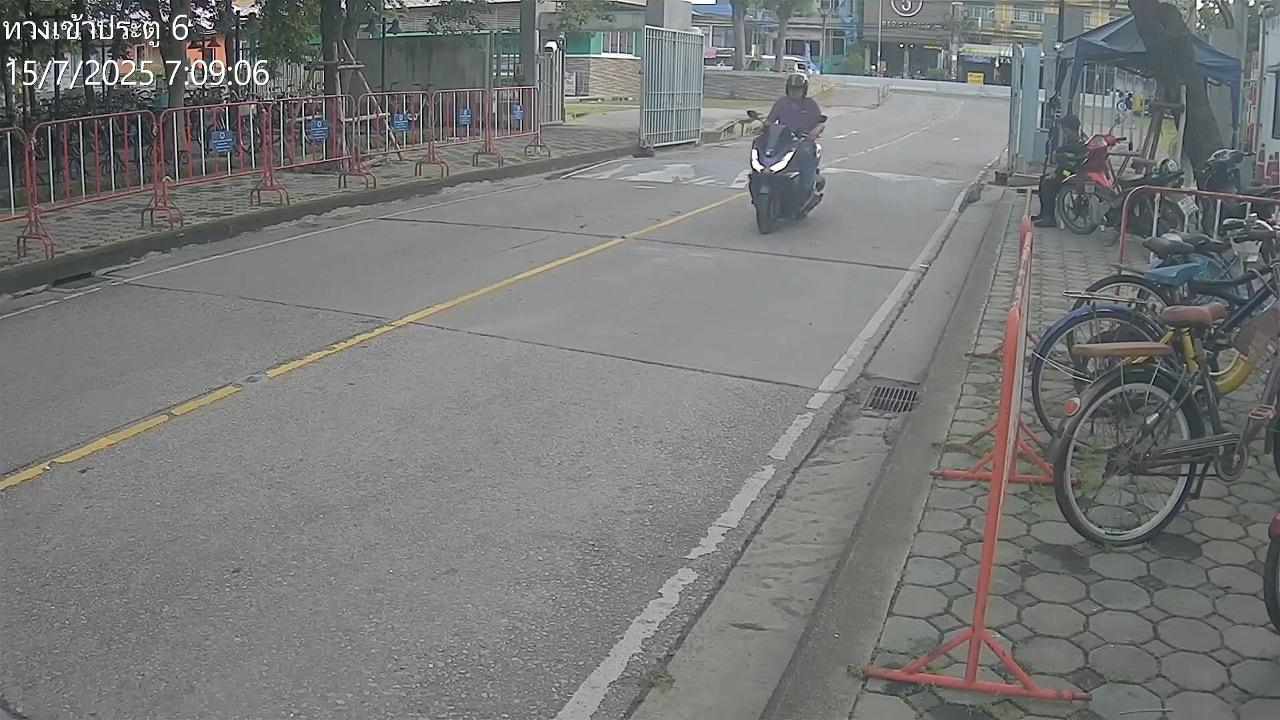With-Helmet: (785, 72, 809, 102)
